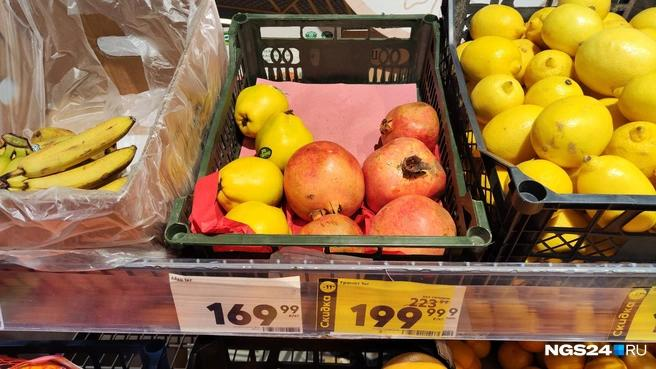banana: (0, 115, 137, 192)
lemon: (459, 0, 655, 202)
pomegranate: (282, 101, 463, 240)
